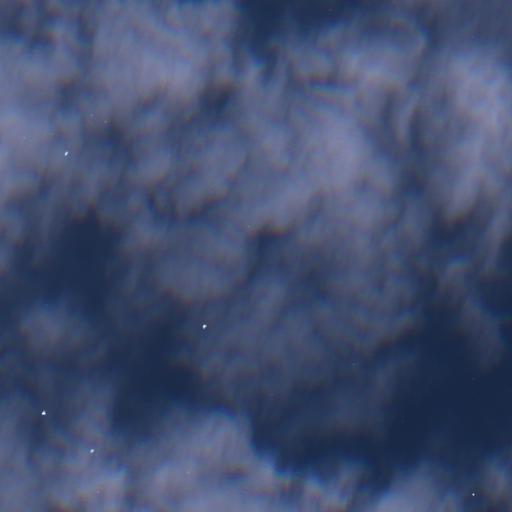Iceberg: (202, 324, 206, 328), (41, 410, 45, 414), (65, 151, 68, 155), (90, 449, 93, 452), (472, 493, 474, 495)
